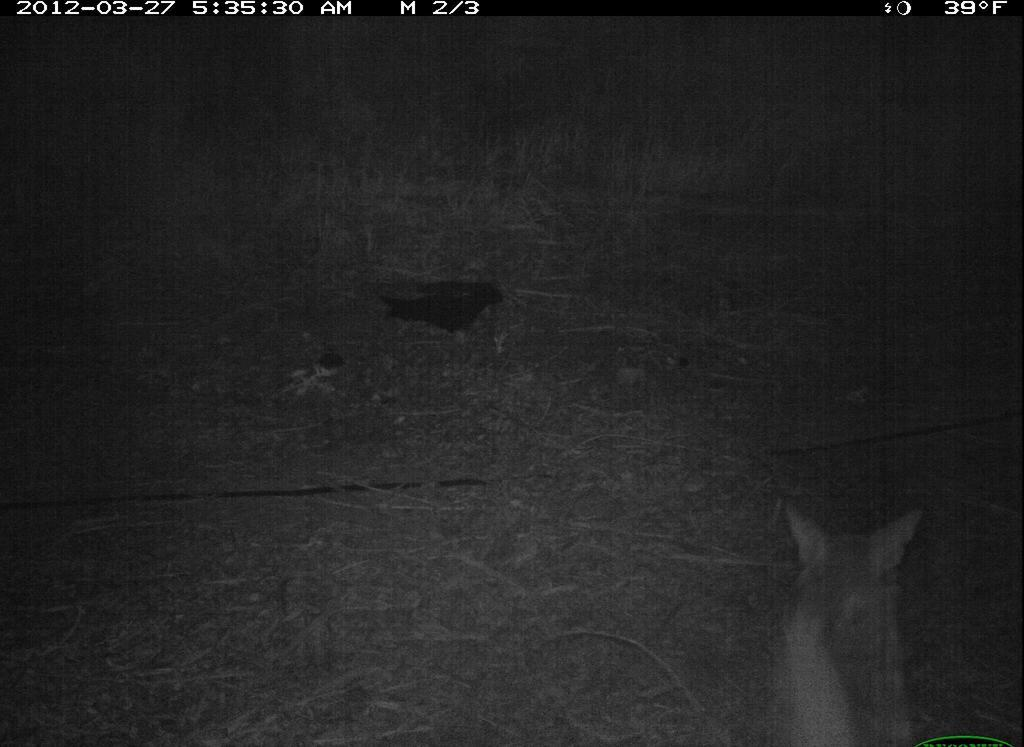coyote: (769, 496, 940, 745)
